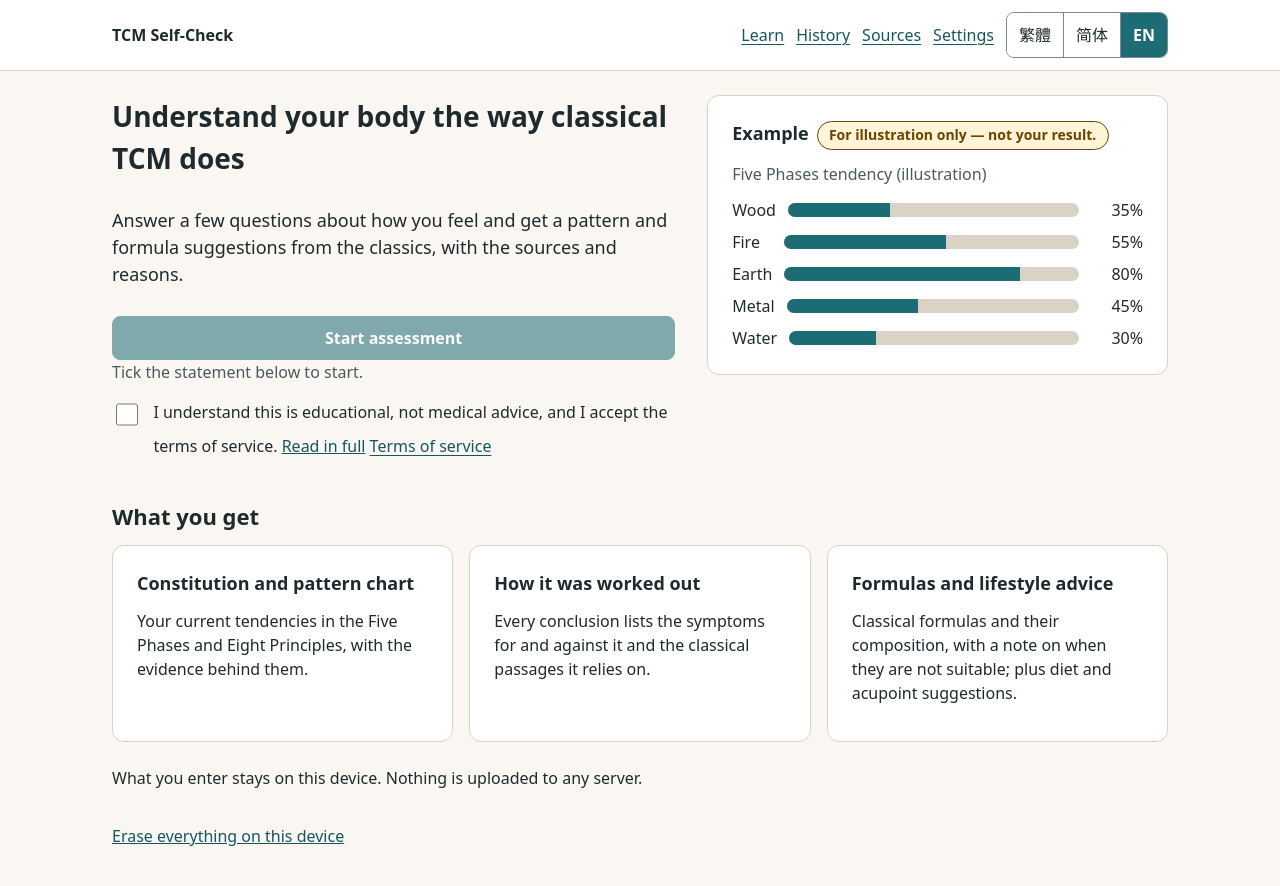
Test: the terms of service › the landing page's statement accepts them and links to them
Expected: the checkbox named "I accept the terms of service" is not checked, [116,403,138,426]
Click the link "Terms of service" at (430,446), box [370,435,491,457]
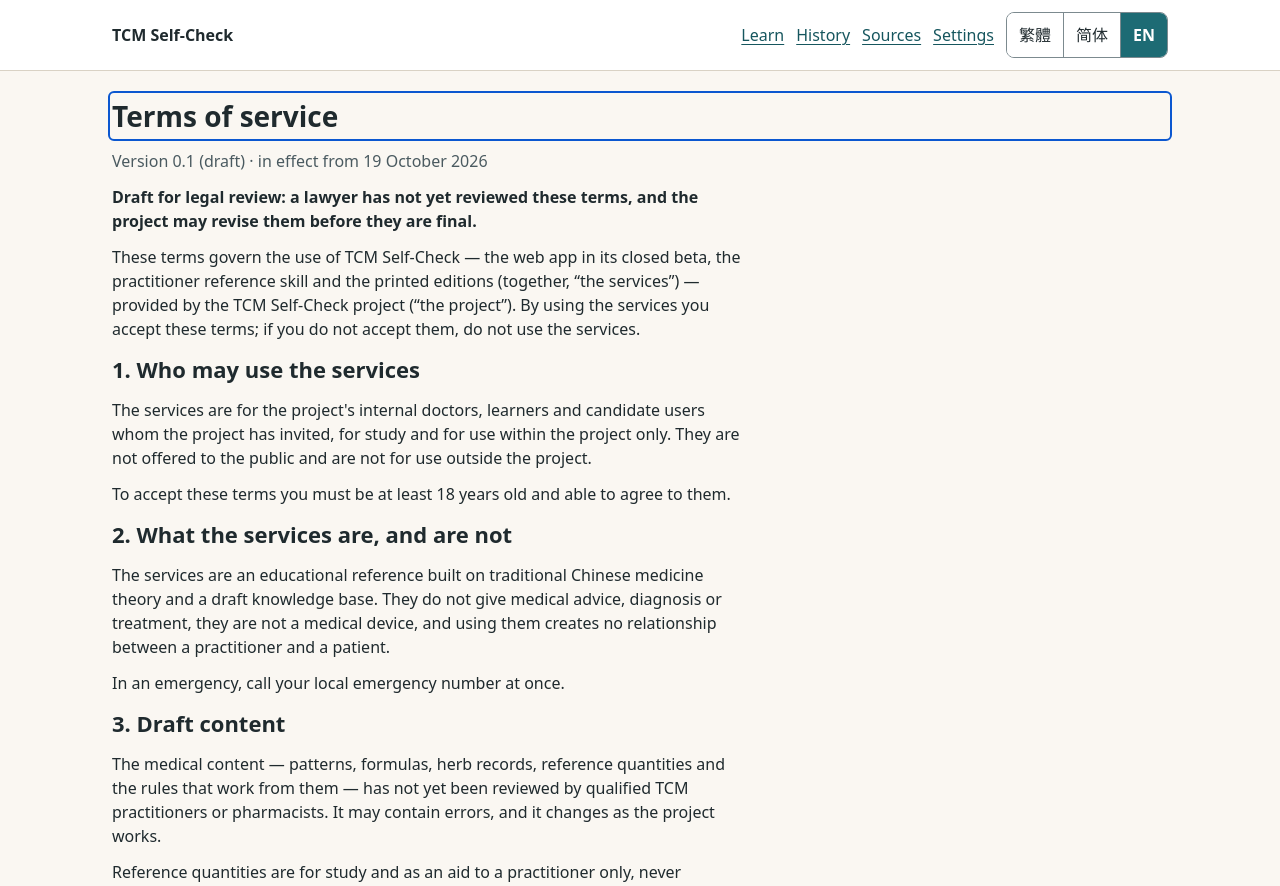
Expected: the heading "Terms of service" is shown, [112,97,338,135]
